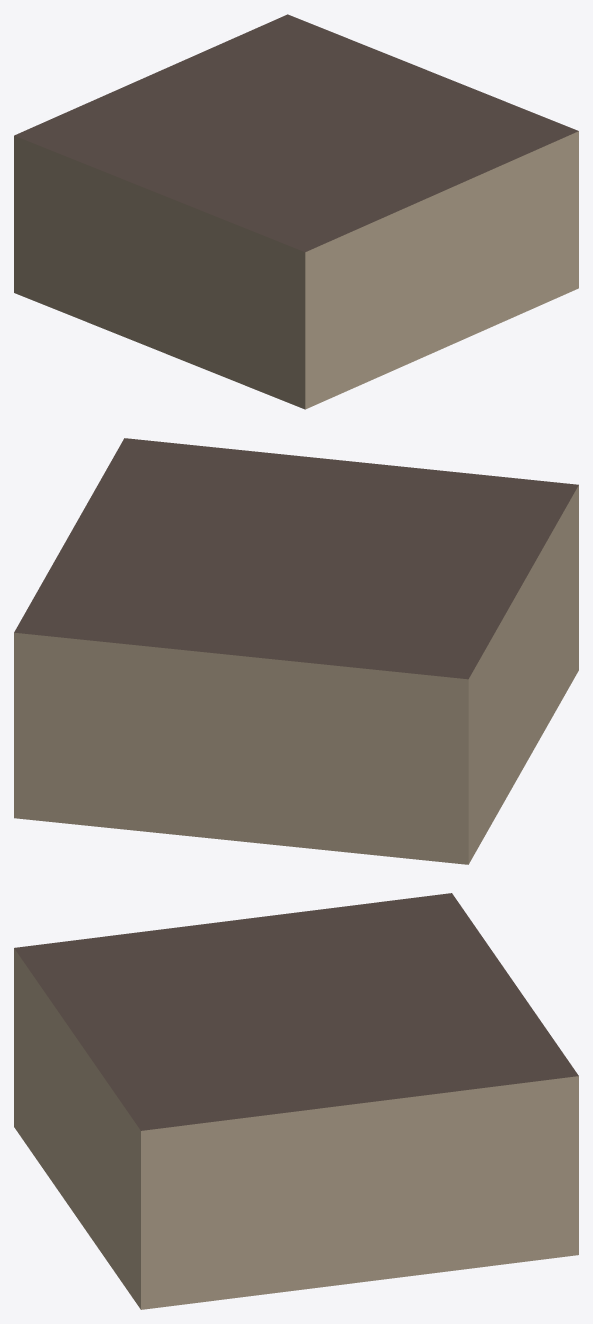
3 views of the same model, one above another, from view 1: azimuth 30°, elevation 25°; view 2: azimuth 150°, elevation 25°; view 3: azimuth 270°, elevation 25° (orthographic). The views are drawn at different scales.
Visible parts, largest first — view 1: HP-w369317576; view 2: HP-w369317576; view 3: HP-w369317576.
Part boxes in pixels (x1,y1,x2,y2): HP-w369317576: (14,14,578,409); HP-w369317576: (14,438,578,864); HP-w369317576: (14,893,578,1309).
Size of the model in its own units: 25.65 by 9 by 25.74.
